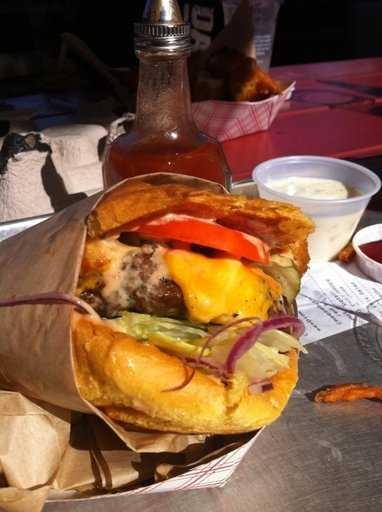hamburger: (23, 177, 318, 441)
